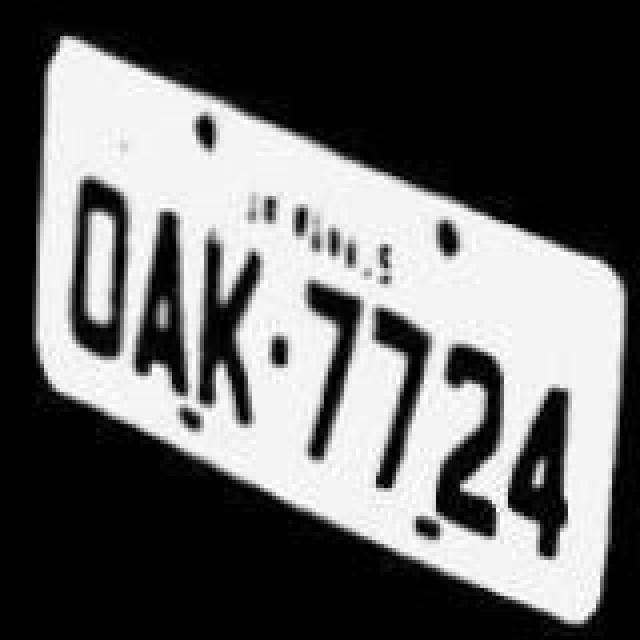2: (428, 336, 512, 552)
4: (494, 368, 578, 568)
7: (362, 300, 438, 500), (290, 272, 366, 468)
A: (120, 202, 196, 402)
K: (182, 220, 270, 432)
O: (54, 170, 138, 390)
